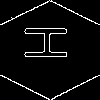H: (25, 25, 77, 61)
